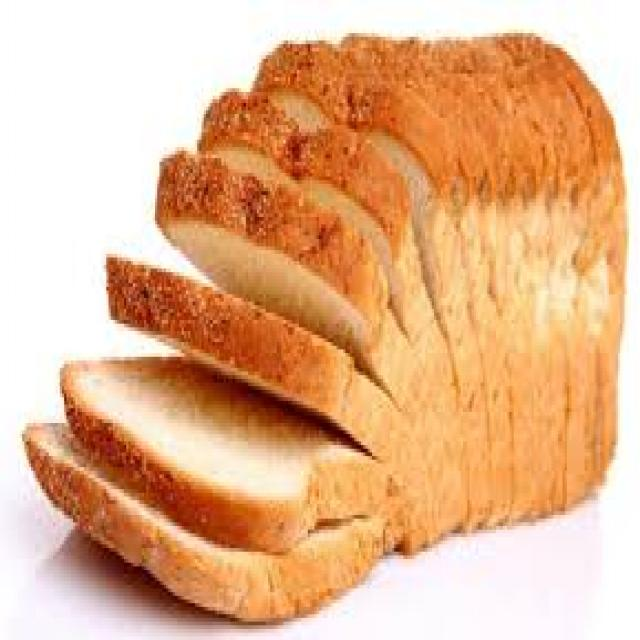organic waste: (334, 29, 624, 515), (195, 88, 485, 530), (252, 37, 510, 522), (150, 151, 462, 537), (102, 247, 436, 556), (20, 412, 379, 618), (58, 353, 383, 552)
